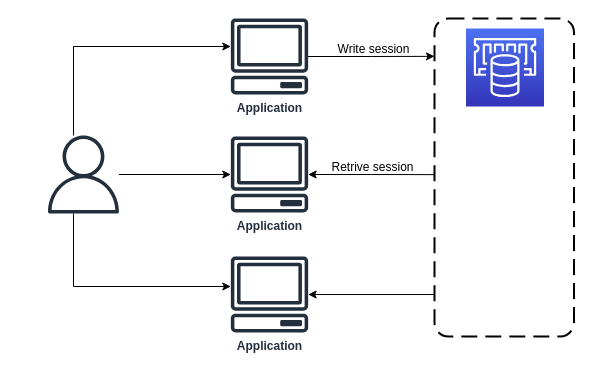
This 592x370 diagram has some shape labels left out. Here are the shapes that lost their labels. From the top down, the centre of each, then its label:
point 504,67: ElastiCache
point 83,174: User
